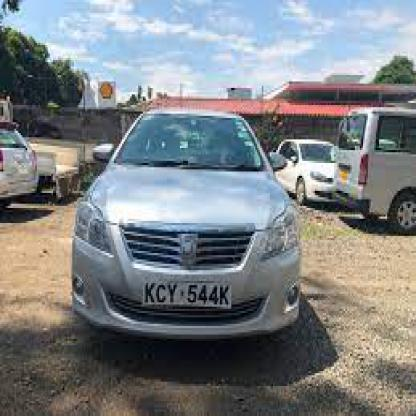car: (70, 112, 304, 345), (276, 139, 334, 206)
